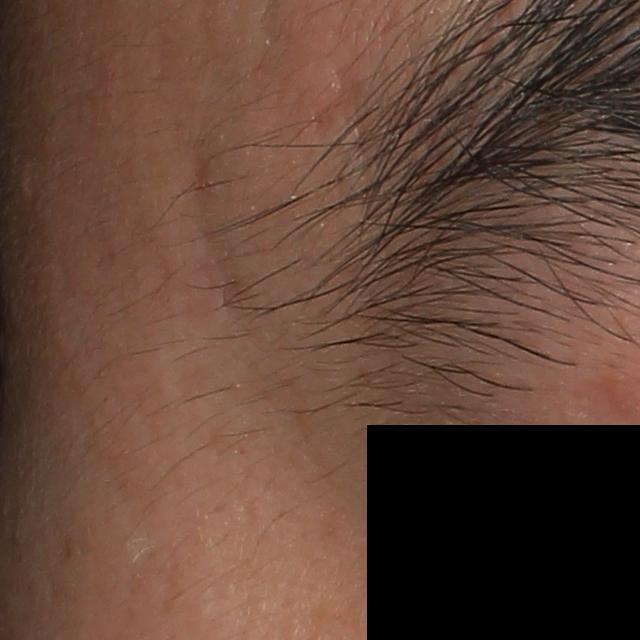atrophic_scar: (176, 100, 312, 437), (311, 55, 381, 135), (173, 157, 219, 208)
